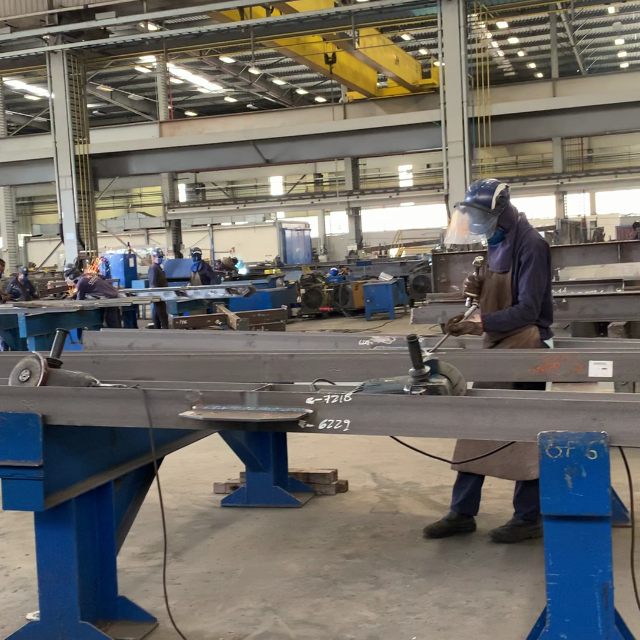face-shield: (443, 206, 490, 244)
glove: (440, 316, 484, 336), (463, 274, 479, 298)
helmet: (460, 179, 509, 204)
person: (423, 177, 551, 545)
safety-shoe: (425, 513, 477, 541), (488, 516, 544, 542)
